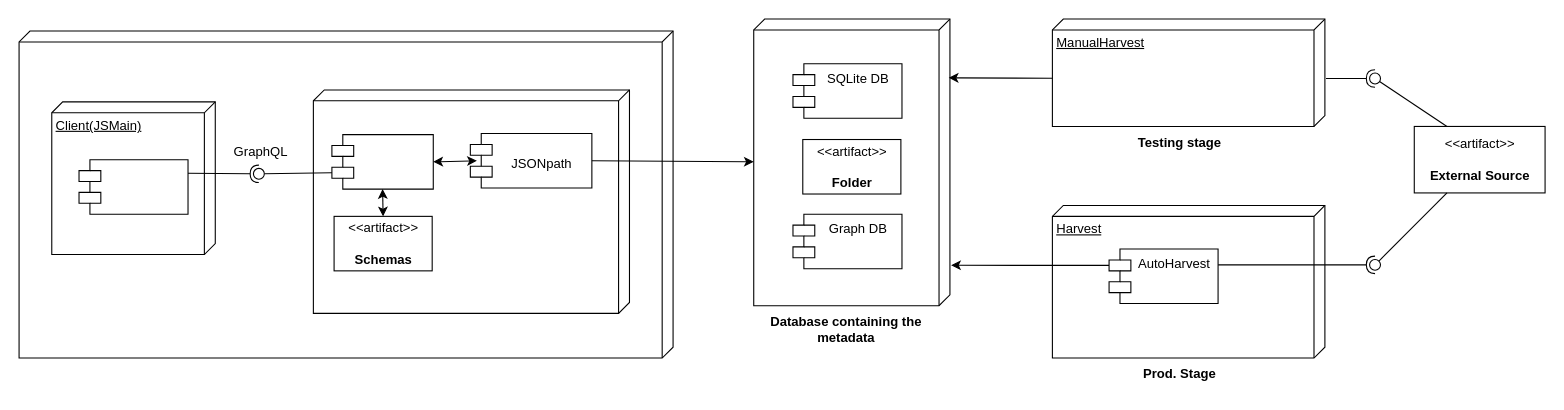
The diagram is 1564 pixels wide and 410 high, and some of its shapes have lost their labels. Here are the shapes that lost their labels. From the top down, the box of each, then its label:
(331, 134, 433, 189): Server
(753, 18, 950, 306): Database module
(78, 159, 188, 214): ReactApp
(18, 30, 673, 358): MainApp module
(312, 89, 629, 313): Server(JvmMain)
